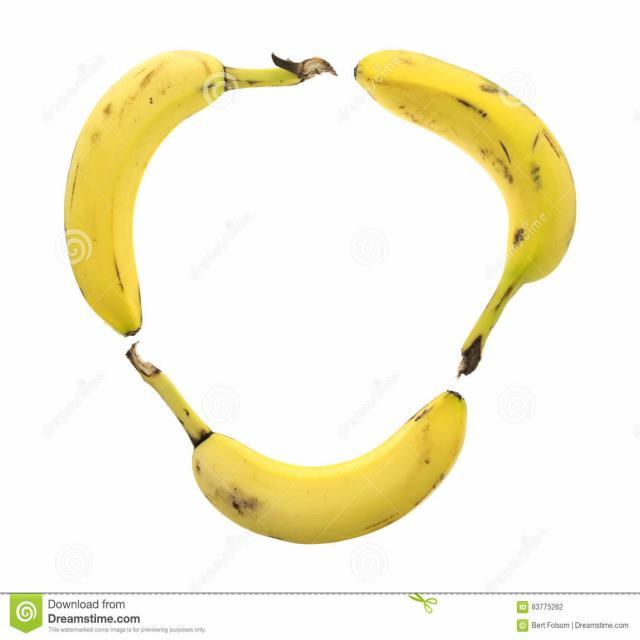Banana: (62, 54, 338, 338), (354, 51, 582, 376), (126, 350, 474, 548)
